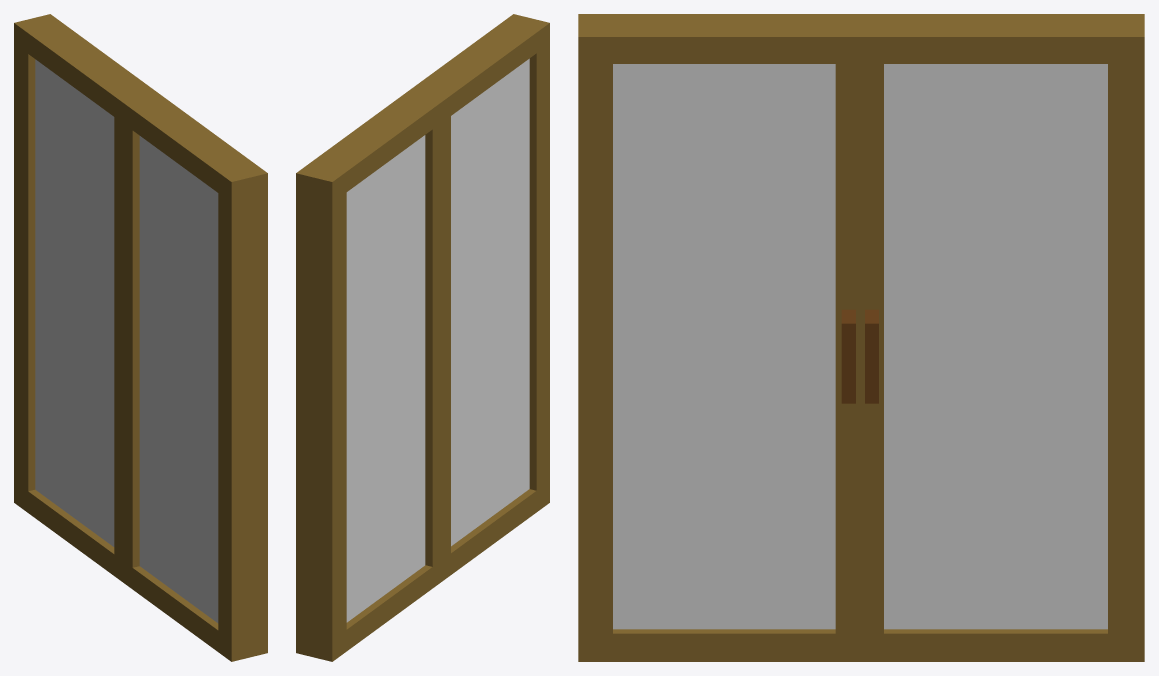
File: glassdoor.fbx
The picture shows the model from 3 angles, left to right: view 1: azimuth 30°, elevation 25°; view 2: azimuth 150°, elevation 25°; view 3: azimuth 270°, elevation 25°; orthographic projection. The views are drawn at different scales.
Parts seen in each view (by area): view 1: Cube.001, Cube; view 2: Cube.001, Cube; view 3: Cube.001, Cube, Cube.002, Cube.003.
Boxes of the visible parts, left/top/right/bottom form: Cube.001: left=35, top=59, right=218, bottom=623; Cube: left=14, top=14, right=267, bottom=661; Cube.001: left=346, top=58, right=529, bottom=622; Cube: left=296, top=14, right=549, bottom=661; Cube.001: left=613, top=64, right=1107, bottom=629; Cube: left=578, top=14, right=1144, bottom=661; Cube.002: left=841, top=309, right=855, bottom=403; Cube.003: left=865, top=309, right=878, bottom=403.
Size of the model in its own units: 131 by 1024 by 842.
